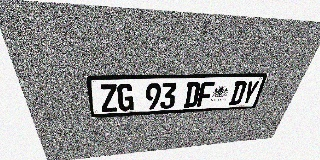3: (160, 83, 177, 109)
9: (145, 83, 162, 110)
D: (228, 81, 248, 105), (183, 82, 201, 108)
F: (196, 82, 215, 107)
G: (117, 84, 134, 111)
Y: (240, 81, 260, 104)
Z: (99, 84, 118, 112)
